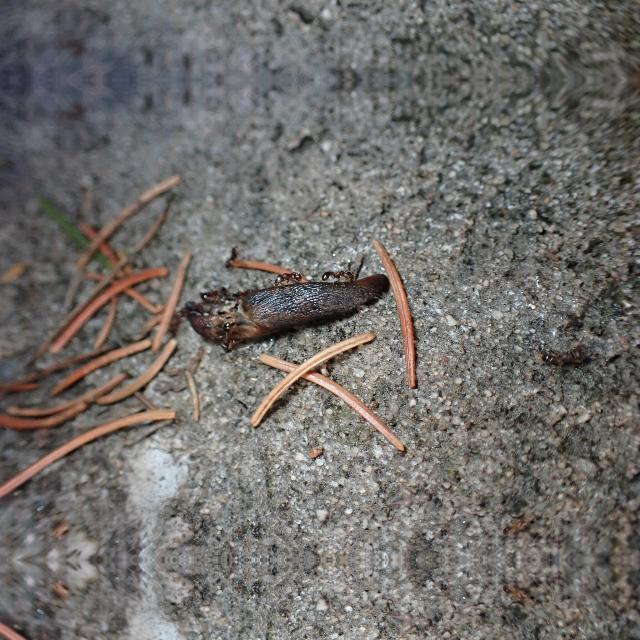Tetramorium: (314, 262, 360, 282), (218, 323, 242, 355), (272, 268, 304, 290)
